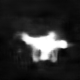plane: (15, 29, 73, 63)
